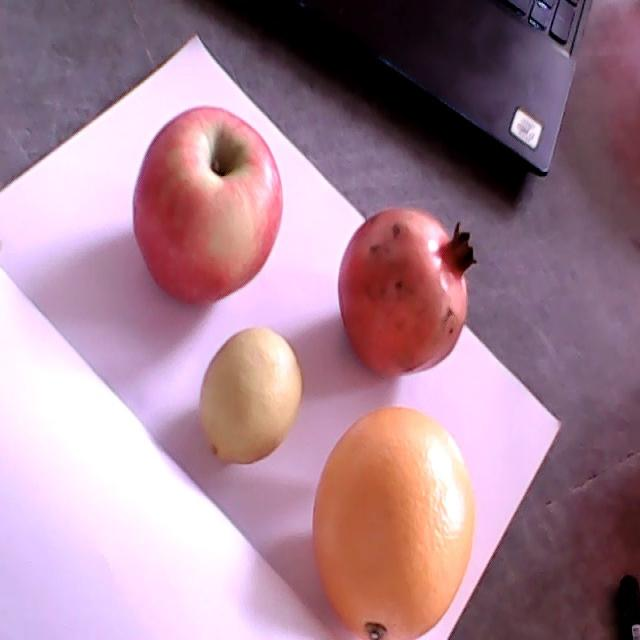apple: (133, 105, 283, 306)
lemon: (199, 326, 303, 464)
orange: (311, 404, 474, 639)
pomegranate: (340, 206, 478, 376)
